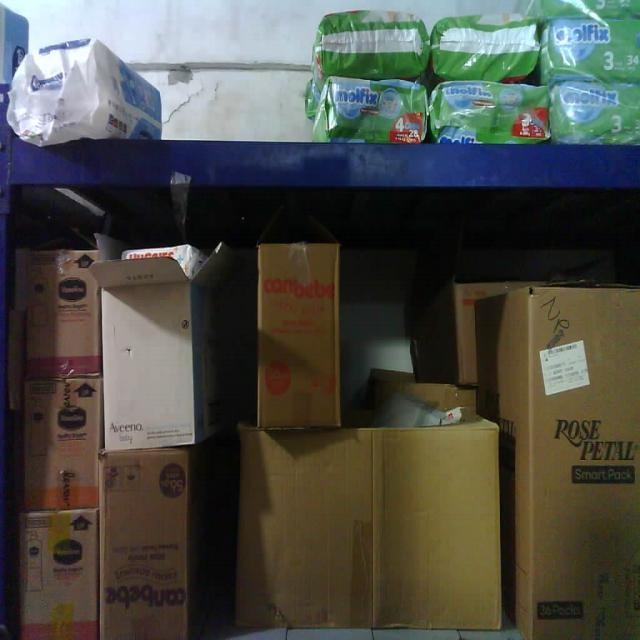cardboxes: (232, 425, 502, 632), (527, 286, 640, 640), (98, 447, 193, 640), (256, 240, 344, 426), (19, 508, 99, 640), (23, 375, 101, 508), (24, 249, 101, 378)
